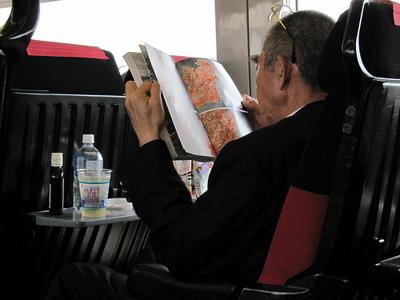person: (123, 11, 359, 298)
